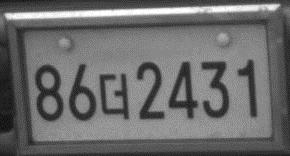1: (233, 56, 265, 118)
2: (134, 59, 166, 120)
3: (200, 59, 230, 118)
4: (167, 59, 199, 119)
6: (67, 62, 97, 122)
8: (32, 62, 65, 121)
더: (98, 72, 130, 120)
